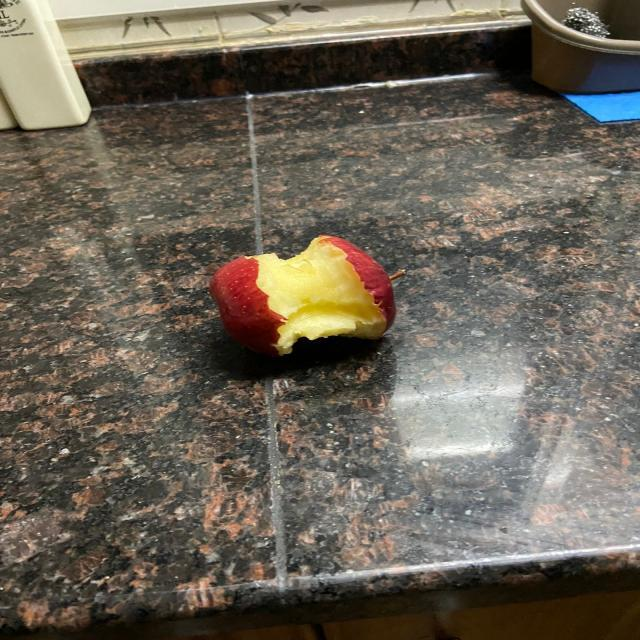apple: (215, 234, 406, 354)
